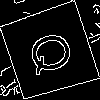Q: (24, 26, 83, 79)
